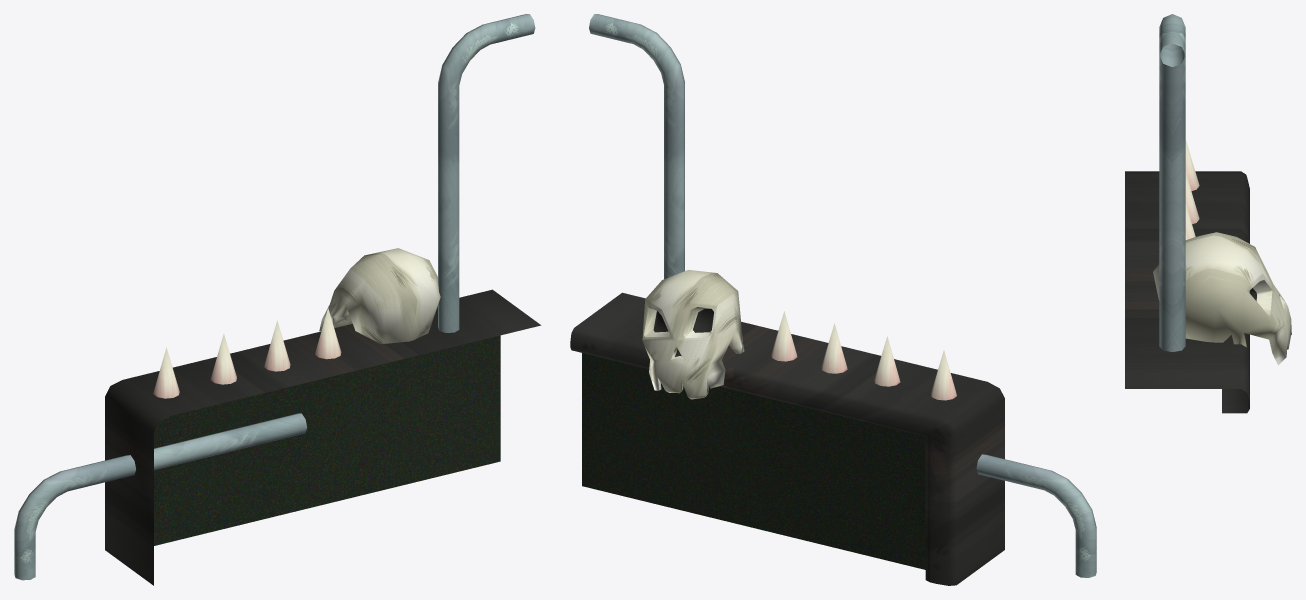
The model's file is LevelUI_Dashboard.fbx.
3 views of the same model, side by side, from view 1: azimuth 30°, elevation 25°; view 2: azimuth 150°, elevation 25°; view 3: azimuth 270°, elevation 25° (orthographic). The views are drawn at different scales.
Parts seen in each view (by area): view 1: Level UI; view 2: Level UI; view 3: Level UI.
Part boxes in pixels (x1,y1,x2,y2): Level UI: [14, 14, 541, 585]; Level UI: [570, 14, 1096, 585]; Level UI: [1125, 14, 1291, 413].
Size of the model in its own units: 940 by 810 by 224.
